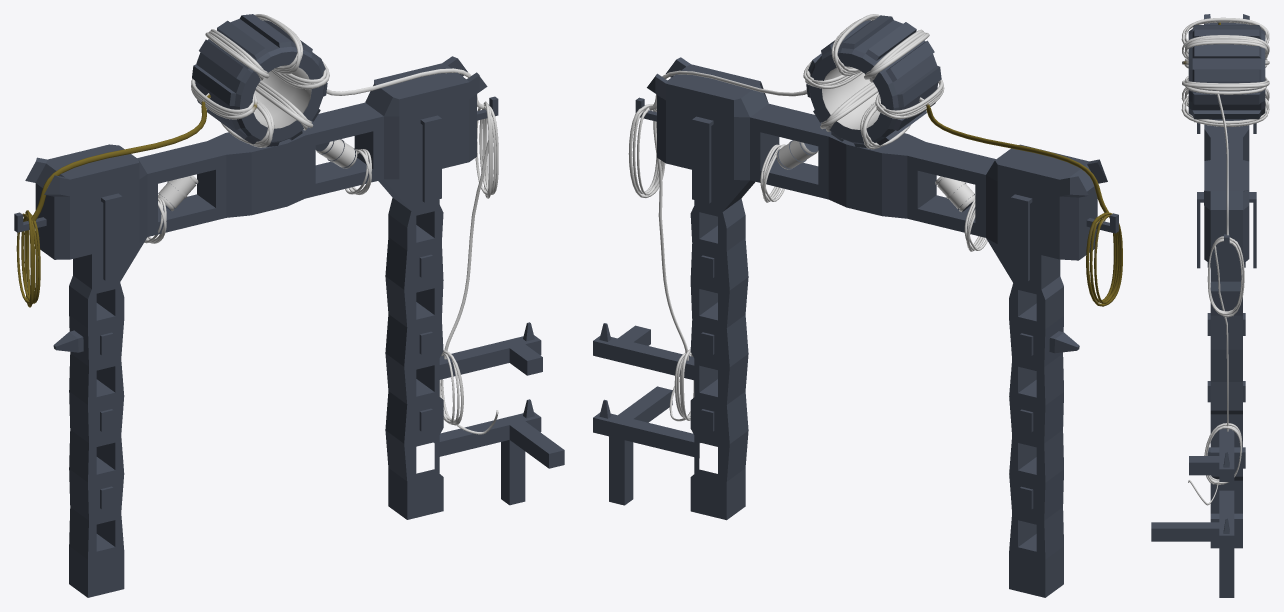
Rendered from Portal_Arch.glb.
3 renders of one model, left to right at view 1: azimuth 30°, elevation 25°; view 2: azimuth 150°, elevation 25°; view 3: azimuth 270°, elevation 25°, orthographic. The views are drawn at different scales.
Visible parts, largest first — view 1: Cube; view 2: Cube; view 3: Cube.
Boxes of the visible parts, x1,y1,x2,y2 form: Cube: (14, 14, 564, 597); Cube: (593, 14, 1122, 597); Cube: (1151, 14, 1269, 597).
Size of the model in its own units: 4.79 by 4.71 by 1.1.
